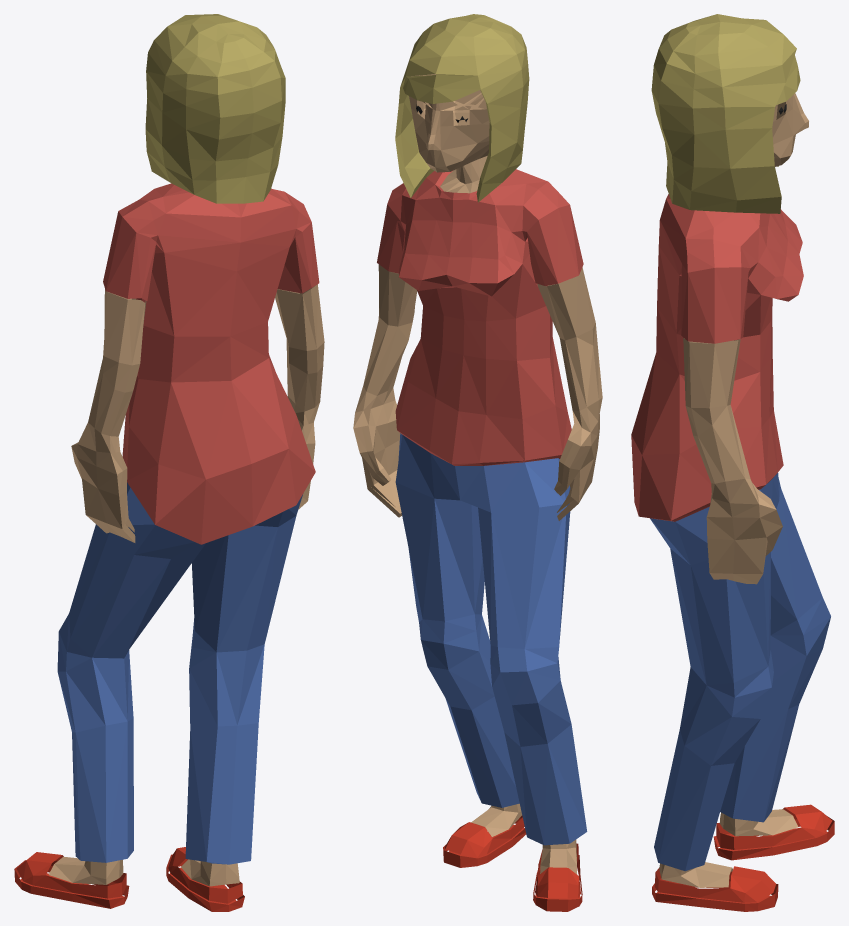
The model's file is person_6_idle.fbx.
The picture shows the model from 3 angles, left to right: view 1: azimuth 30°, elevation 25°; view 2: azimuth 150°, elevation 25°; view 3: azimuth 270°, elevation 25°; orthographic projection. The views are drawn at different scales.
Parts seen in each view (by area): view 1: Woman; view 2: Woman; view 3: Woman.
Boxes of the visible parts, box(x1,y1,x2,y2) form: Woman: box(14, 14, 324, 911); Woman: box(353, 14, 602, 911); Woman: box(631, 14, 834, 911).
Size of the model in its own units: 0.3129 by 1 by 0.2082.
